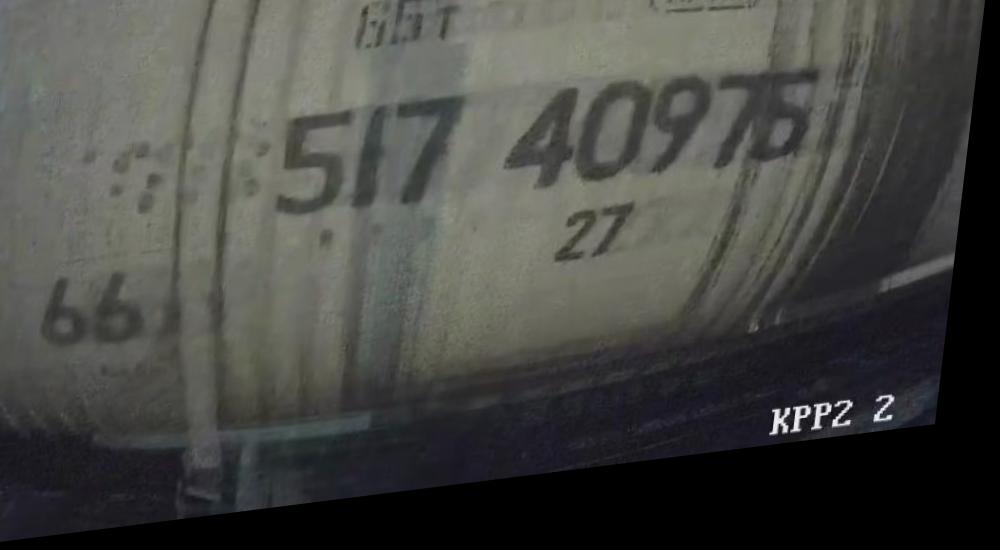Wagon-number: (271, 62, 832, 241)
